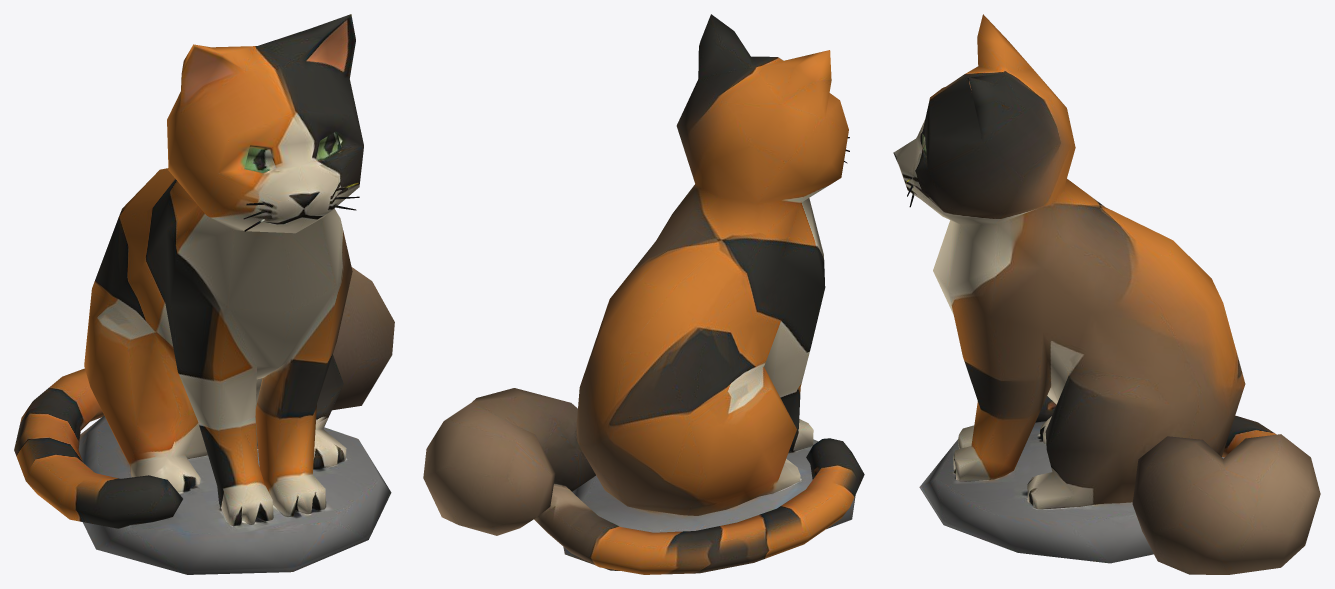
Rendered from 고양이 인형.glb.
3 renders of one model, left to right at view 1: azimuth 30°, elevation 25°; view 2: azimuth 150°, elevation 25°; view 3: azimuth 270°, elevation 25°, orthographic. The views are drawn at different scales.
Visible parts, largest first — view 1: tripo_node_cb746e04-242a-4640-80f8-9885a5ac8534; view 2: tripo_node_cb746e04-242a-4640-80f8-9885a5ac8534; view 3: tripo_node_cb746e04-242a-4640-80f8-9885a5ac8534.
Boxes of the visible parts, <box> form: tripo_node_cb746e04-242a-4640-80f8-9885a5ac8534: <box>14,14,394,574</box>; tripo_node_cb746e04-242a-4640-80f8-9885a5ac8534: <box>423,14,864,574</box>; tripo_node_cb746e04-242a-4640-80f8-9885a5ac8534: <box>893,14,1320,574</box>.
Size of the model in its own units: 0.8184 by 0.998 by 0.8652.
1 material, 1 textured.
